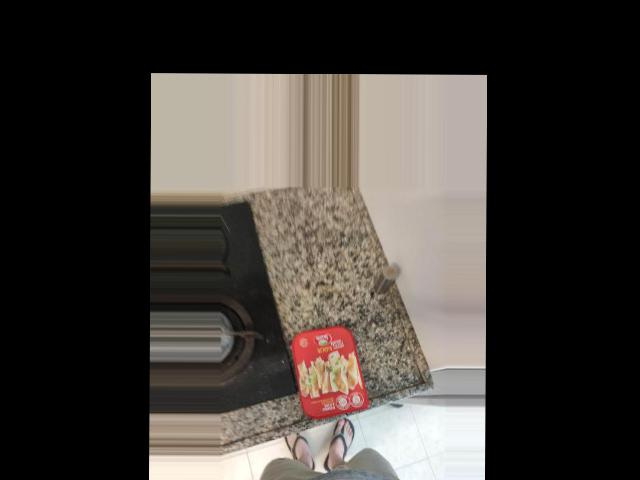cheese: (285, 237, 376, 346)
